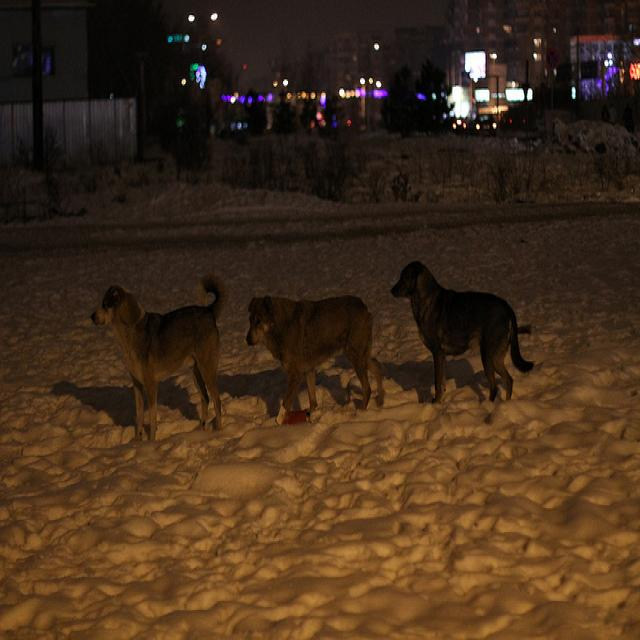Dog: (382, 259, 572, 432), (88, 286, 231, 459), (242, 282, 390, 430)
